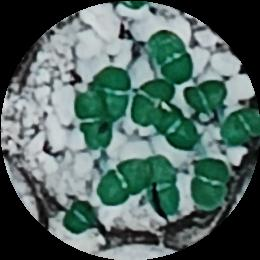Basil: (146, 32, 196, 80), (147, 156, 182, 215), (101, 158, 151, 199), (128, 80, 173, 125), (158, 107, 198, 153), (77, 95, 113, 143), (221, 108, 260, 149), (98, 65, 128, 118), (197, 158, 224, 208), (188, 79, 224, 116), (65, 197, 99, 236)
